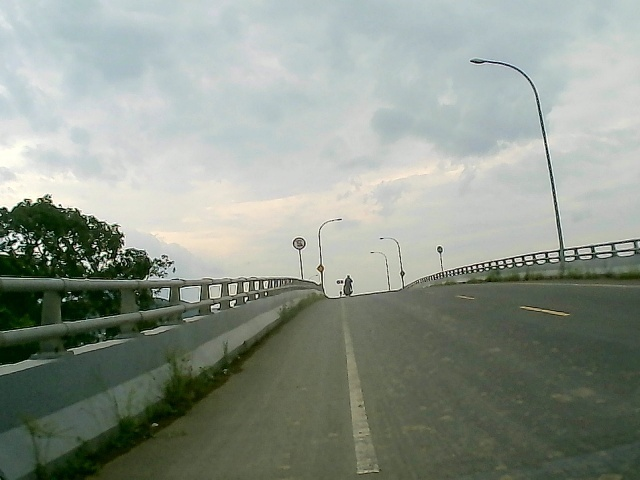Dilarang berhenti: (291, 235, 307, 251)
